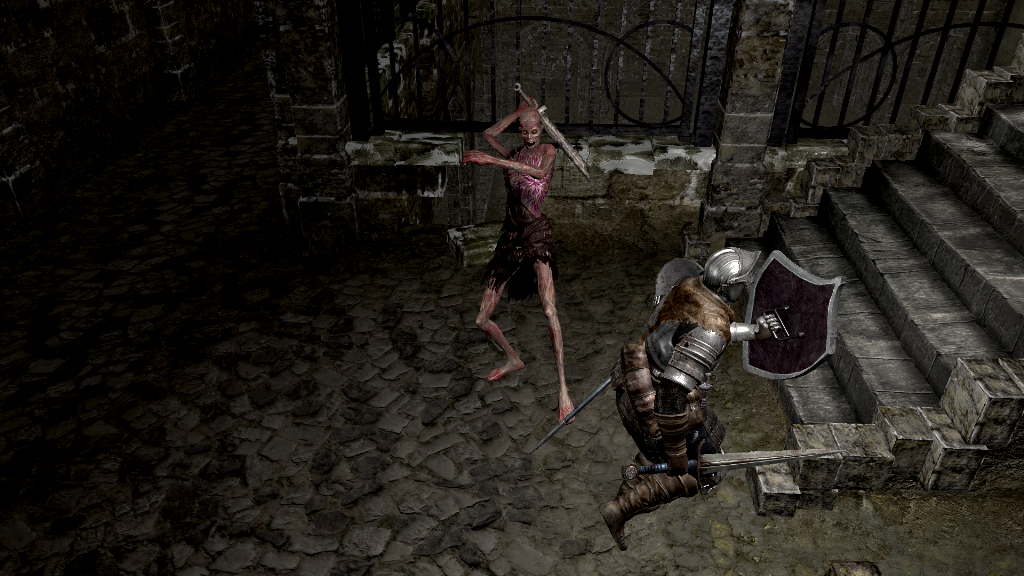hollow: (462, 95, 577, 424)
player: (600, 246, 849, 553)
